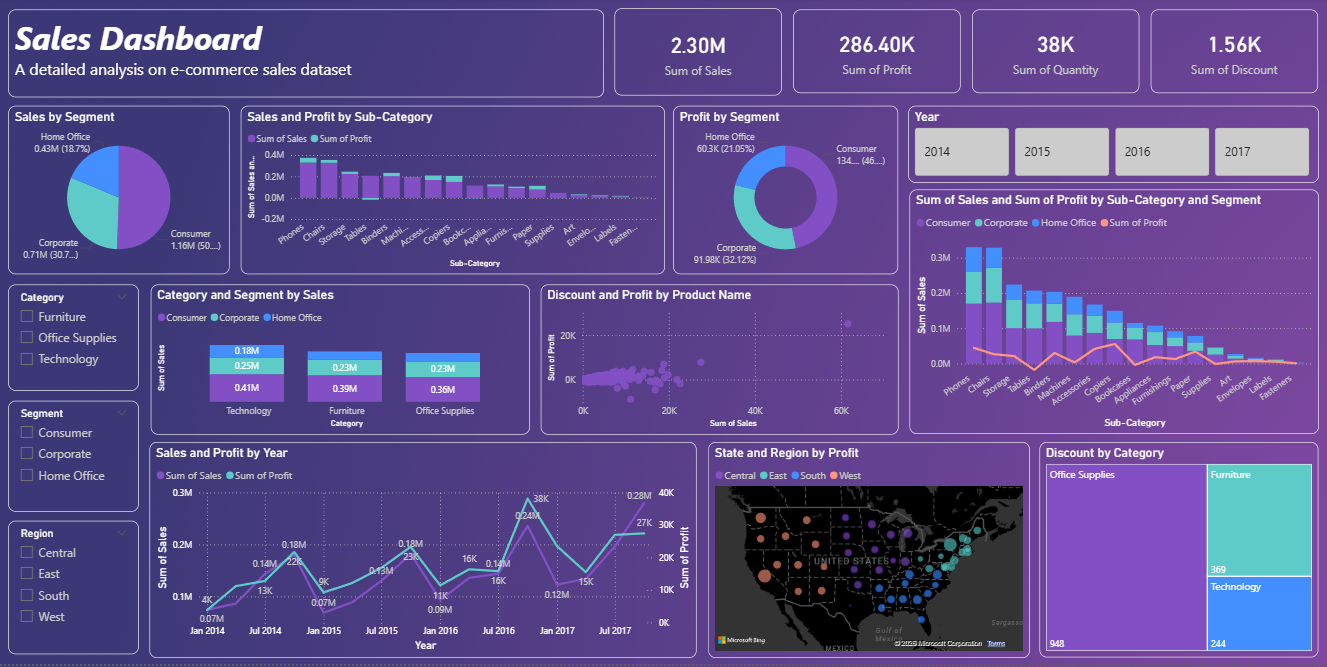

The page's visual inventory and layout, read from the dashboard file:
{"tool":"powerbi","page":{"name":"Dashboard","canvas":[1800,900],"ordinal":3},"visuals":[{"type":"columnChart","title":"Category and Segment by Sales","fields":{"Category":["Orders.Category"],"Y":["Sum(Orders.Sales)"],"Series":["Orders.Segment"]},"box":[206.8,387.2,511.6,202.1],"z":0},{"type":"columnChart","title":"Sales and Profit by Sub-Category","fields":{"Category":["Orders.Sub-Category"],"Y":["Sum(Orders.Sales)","Sum(Orders.Profit)"]},"box":[328.1,146.2,572.2,227],"z":1000},{"type":"pieChart","title":"Sales by Segment","fields":{"Category":["Orders.Segment"],"Y":["Sum(Orders.Sales)"]},"box":[15.5,146.2,298.6,227],"z":2000},{"type":"donutChart","title":"Profit by Segment","fields":{"Category":["Orders.Segment"],"Y":["Sum(Orders.Profit)"]},"box":[911.2,146.2,303.2,227],"z":3000},{"type":"lineChart","title":"Sales and Profit by Year","fields":{"Y":["Sum(Orders.Sales)"],"Y2":["Sum(Orders.Profit)"],"Category":["Orders.Order Date.Variation.Date Hierarchy.Year","Orders.Order Date.Variation.Date Hierarchy.Quarter","Orders.Order Date.Variation.Date Hierarchy.Month","Orders.Order Date.Variation.Date Hierarchy.Day"]},"box":[206.1,599.6,738,291.2],"z":4000},{"type":"textbox","box":[15.9,17.3,802.9,118.2],"z":5000},{"type":"treemap","title":"Discount by Category","fields":{"Values":["Sum(Orders.Discount)"],"Group":["Orders.Category"]},"box":[1405.7,600.2,376.3,290.8],"z":6000},{"type":"map","title":"State and Region by Profit","fields":{"Size":["Sum(Orders.Profit)"],"Category":["Orders.State"],"Series":["Orders.Region"]},"box":[958.5,599.6,433.9,291.2],"z":7000},{"type":"scatterChart","title":"Discount and Profit by Product Name","fields":{"Category":["Orders.Product Name"],"Y":["Sum(Orders.Profit)"],"X":["Sum(Orders.Sales)"]},"box":[732.4,387.2,482,202.1],"z":8000},{"type":"card","fields":{"Values":["Sum(Orders.Sales)"]},"box":[832.6,15.2,225.8,118],"z":9000},{"type":"card","fields":{"Values":["Sum(Orders.Quantity)"]},"box":[1314.6,16.9,225.8,112.9],"z":10000},{"type":"card","fields":{"Values":["Sum(Orders.Discount)"]},"box":[1555.6,16.9,225.8,112.9],"z":11000},{"type":"card","fields":{"Values":["Sum(Orders.Profit)"]},"box":[1073.6,16.9,225.8,112.9],"z":12000},{"type":"advancedSlicerVisual","fields":{"Values":["Orders.Order Date.Variation.Date Hierarchy.Year"]},"box":[1228.4,146.2,553.6,104.2],"z":13000},{"type":"slicer","fields":{"Values":["Orders.Region"]},"box":[15.5,705.9,175.7,180.4],"z":14000},{"type":"slicer","fields":{"Values":["Orders.Segment"]},"box":[15.5,544.2,175.7,149.3],"z":15000},{"type":"slicer","fields":{"Values":["Orders.Category"]},"box":[15.5,387.2,175.7,143.1],"z":16000},{"type":"lineStackedColumnComboChart","fields":{"Category":["Orders.Sub-Category"],"Y":["Sum(Orders.Sales)"],"Y2":["Sum(Orders.Profit)"],"Series":["Orders.Segment"]},"box":[1230,259.7,552,329.6],"z":17000}]}

Visuals, with their boxes in screenshot pixels (x1, y1, x2, y2), scaled from the page's 1800x900 canvas onto the 1327x667 screenshot:
"Category and Segment by Sales" columnChart: (152, 287, 530, 437)
"Sales and Profit by Sub-Category" columnChart: (242, 108, 664, 277)
"Sales by Segment" pieChart: (11, 108, 232, 277)
"Profit by Segment" donutChart: (672, 108, 895, 277)
"Sales and Profit by Year" lineChart: (152, 444, 696, 660)
textbox: (12, 13, 604, 100)
"Discount by Category" treemap: (1036, 445, 1314, 660)
"State and Region by Profit" map: (707, 444, 1027, 660)
"Discount and Profit by Product Name" scatterChart: (540, 287, 895, 437)
card - Sum(Orders.Sales): (614, 11, 780, 99)
card - Sum(Orders.Quantity): (969, 13, 1136, 96)
card - Sum(Orders.Discount): (1147, 13, 1313, 96)
card - Sum(Orders.Profit): (791, 13, 958, 96)
advancedSlicerVisual - Orders.Order Date.Variation.Date Hierarchy.Year: (906, 108, 1314, 186)
slicer - Orders.Region: (11, 523, 141, 657)
slicer - Orders.Segment: (11, 403, 141, 514)
slicer - Orders.Category: (11, 287, 141, 393)
lineStackedColumnComboChart - Orders.Sub-Category x Sum(Orders.Sales): (907, 192, 1314, 437)
